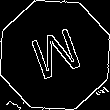M_S: (24, 23, 86, 87)
